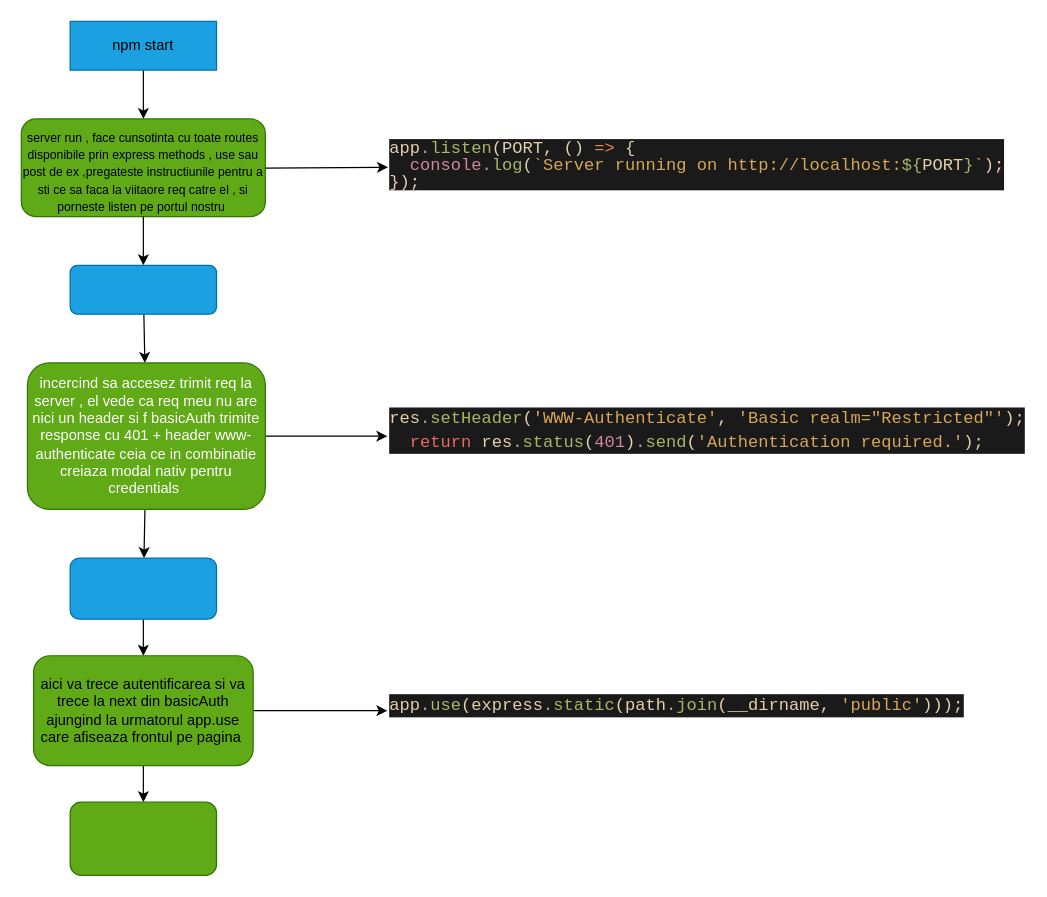
Some shapes in this 1047 by 897 pixel diagram are drawn without their labels. The shapes that lost their labels are listed below. From the top down, each one's centre as x and y in pixels, then its label:
At (x=143, y=289): "localhost:PORT".
At (x=143, y=588): "inseram datele si retrimitem alt req cu date pentru auth".
